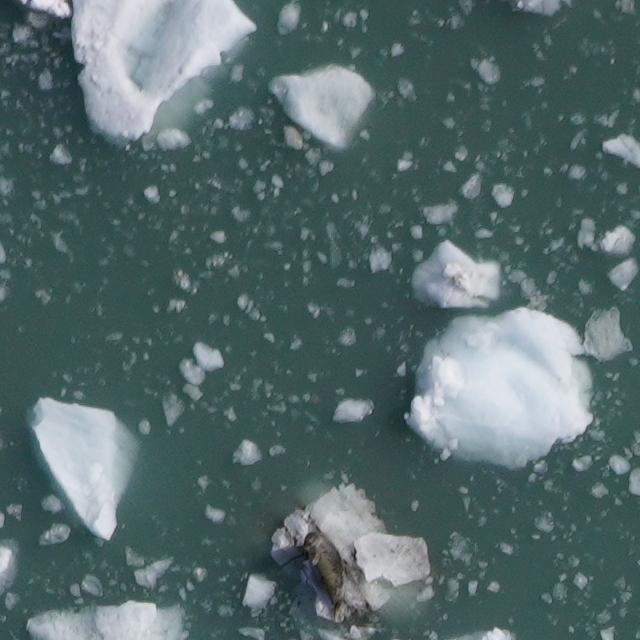seal: (297, 528, 352, 629)
